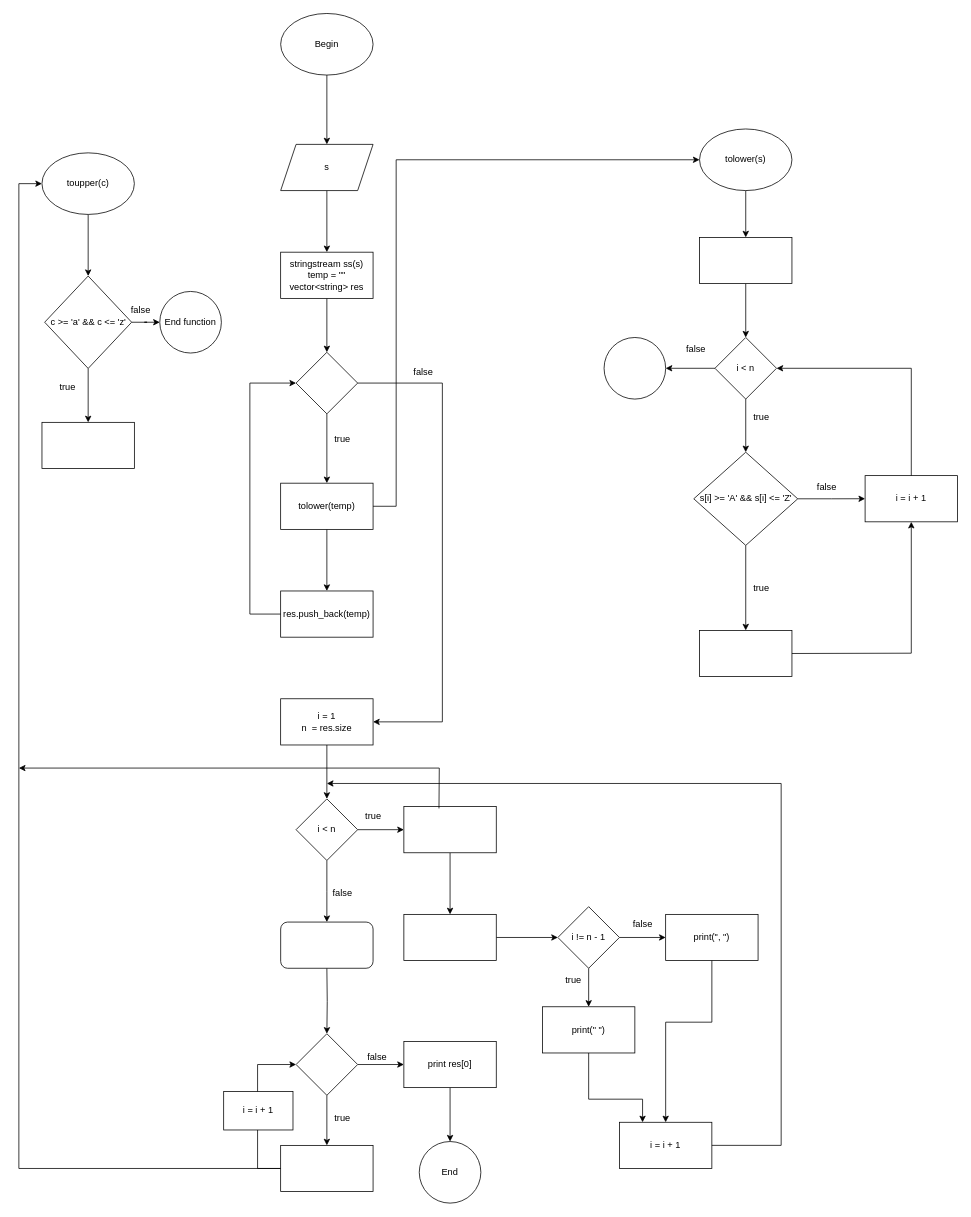
The diagram is 971 pixels wide and 1217 high, and some of its shapes have lost their labels. The shapes that lost their labels are listed below. From the top down, each one's centre as x and y in pixels, then its label:
At (745,260): "i = 0 n = s.size".
At (326,383): "ss >> temp".
At (634,368): "End fuction".
At (87,445): "c = c - 32".
At (745,653): "s[i] = s[i] + 32".
At (449,829): "toupper(res[i][0])".
At (326,944): "i = 0 x = res[0].size".
At (449,937): "print res[i]".
At (326,1064): "i < x".
At (326,1168): "toupper(res[0][i])".
